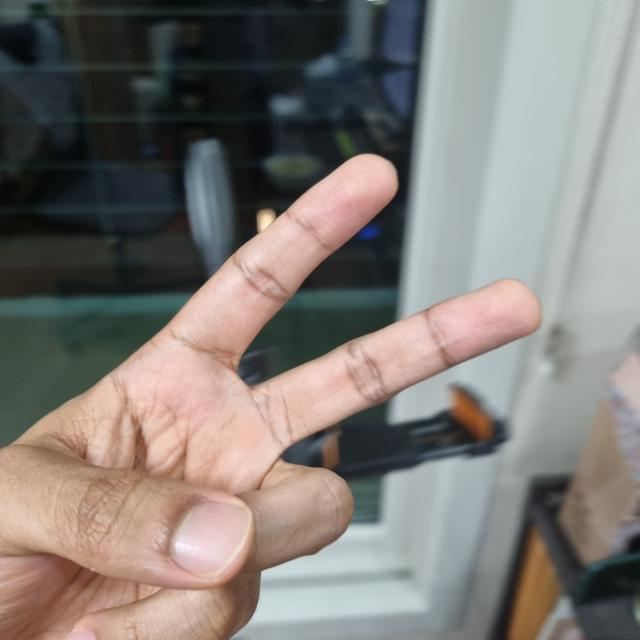Scissors: (0, 155, 541, 638)
